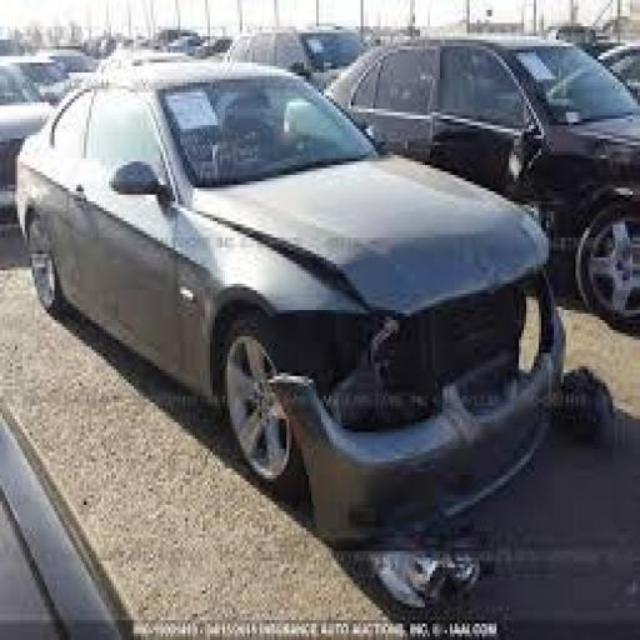dislocated part: (203, 205, 568, 548)
